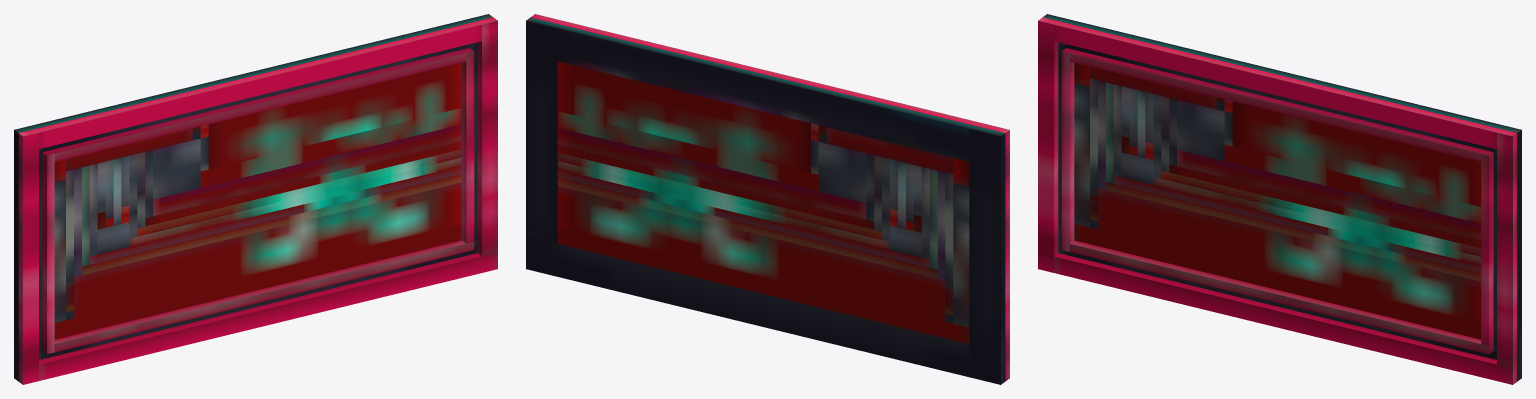
File: Billboard_JapaneseGun_00.fbx
3 renders of one model, left to right at view 1: azimuth 30°, elevation 25°; view 2: azimuth 150°, elevation 25°; view 3: azimuth 330°, elevation 25°, orthographic.
Visible parts, largest first — view 1: Billboard_JapaneseGun_00; view 2: Billboard_JapaneseGun_00; view 3: Billboard_JapaneseGun_00.
Part boxes in pixels (bbox=[...]): Billboard_JapaneseGun_00: bbox=[14, 14, 497, 384]; Billboard_JapaneseGun_00: bbox=[526, 14, 1009, 384]; Billboard_JapaneseGun_00: bbox=[1038, 14, 1521, 384].
Bounding box in the file's own units: 300 × 150 × 10.
